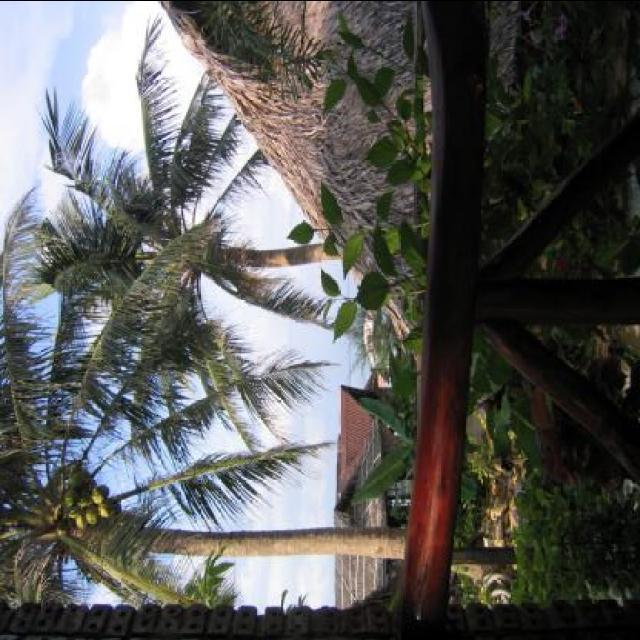Coconut: (63, 466, 115, 531)
